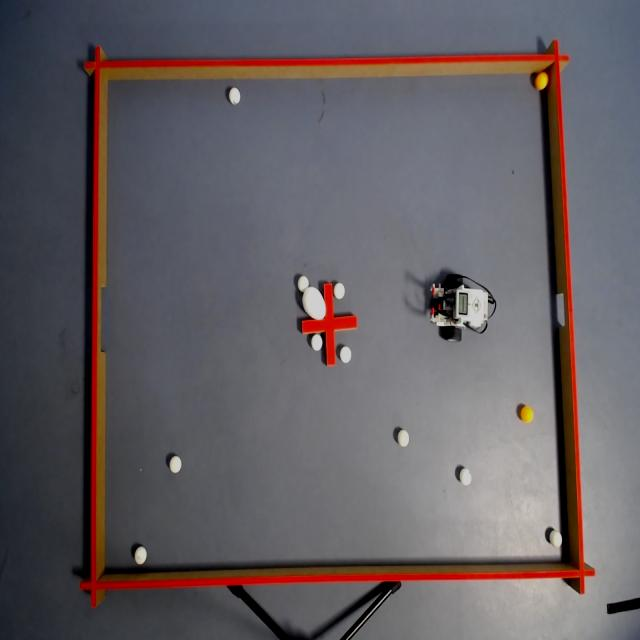boundaries: (540, 35, 594, 599), (75, 558, 598, 612), (82, 38, 570, 87), (77, 44, 111, 614)
cross: (300, 281, 358, 366)
egg: (301, 286, 326, 320)
large_goal: (80, 259, 116, 372)
orange_ball: (532, 69, 550, 93), (519, 403, 536, 428)
robot: (428, 268, 500, 356)
small_goal: (544, 272, 580, 345)
white_ball: (131, 544, 150, 568), (546, 526, 563, 550), (457, 466, 473, 490), (395, 425, 410, 450), (168, 453, 182, 479), (295, 273, 310, 294), (339, 344, 353, 366), (310, 332, 323, 354), (228, 86, 240, 107), (334, 280, 346, 300)
